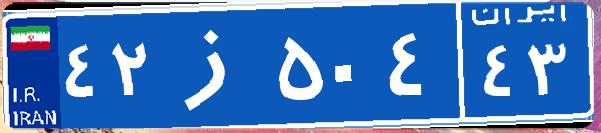0: (330, 28, 385, 110)
2: (110, 28, 158, 105)
3: (525, 38, 570, 115)
4: (385, 28, 445, 110), (57, 26, 110, 107), (475, 38, 525, 113)
5: (273, 28, 330, 110)
ز: (158, 15, 273, 115)
